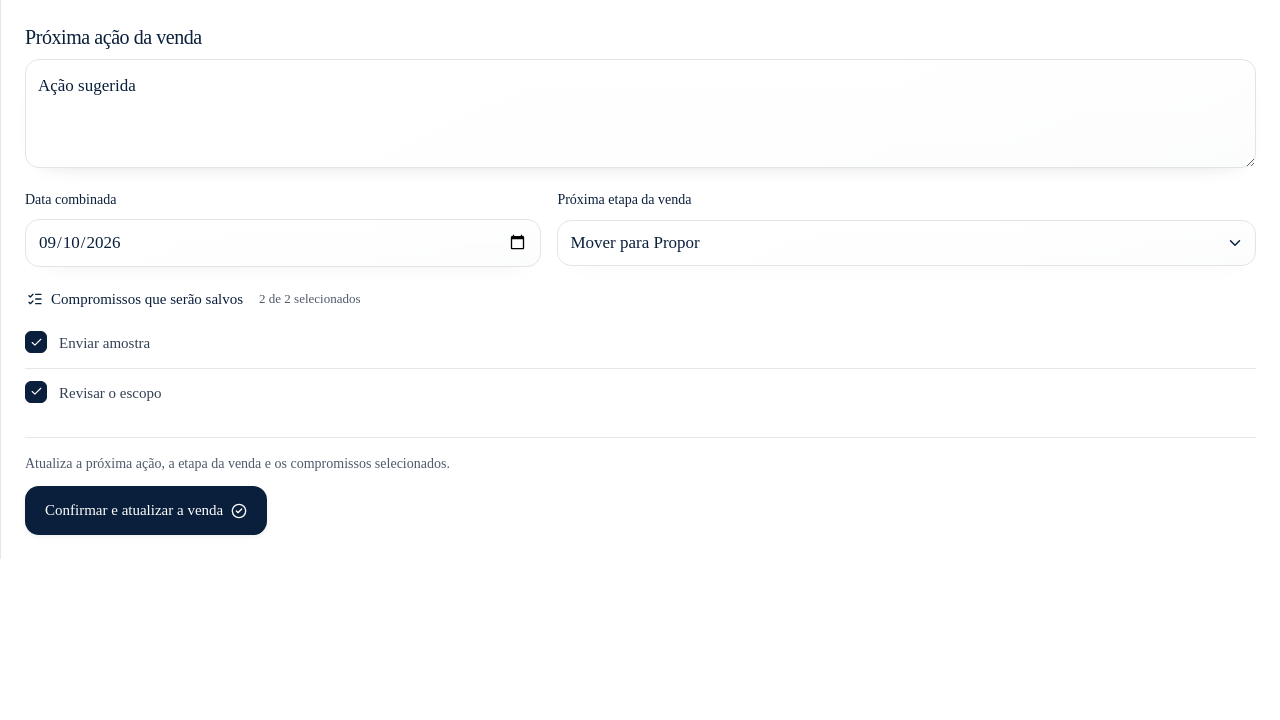
Test: FormularioPlanoCall › mantém texto, data, etapa e seleção após falha de servidor
Replace the text in the text box labelled "Próxima ação da venda" with "Apresentar escopo validado pela equipe" at (640, 113), box [25,59,1256,168]
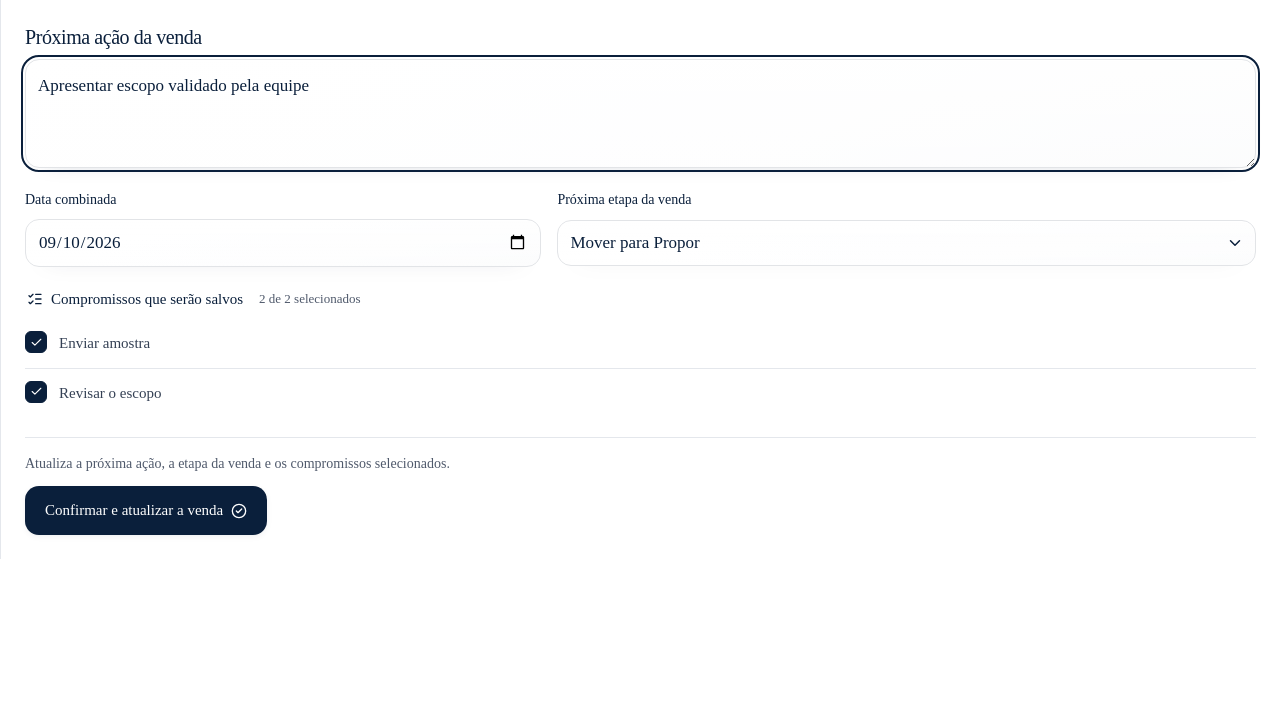
Select "Manter em Descoberta" in the dropdown labelled "Próxima etapa da venda" at (907, 243), box [557,220,1256,266]
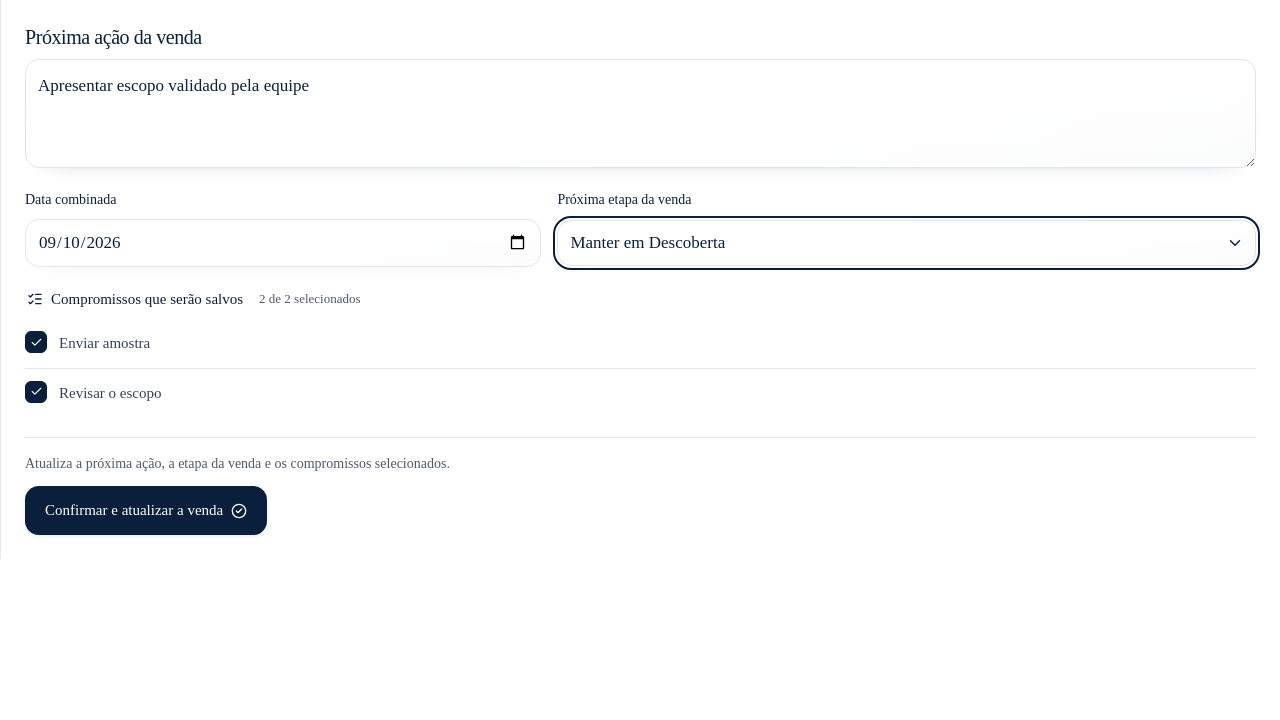
Click the checkbox labelled "Revisar o escopo".
click(110, 393)  # box [25,368,1256,417]
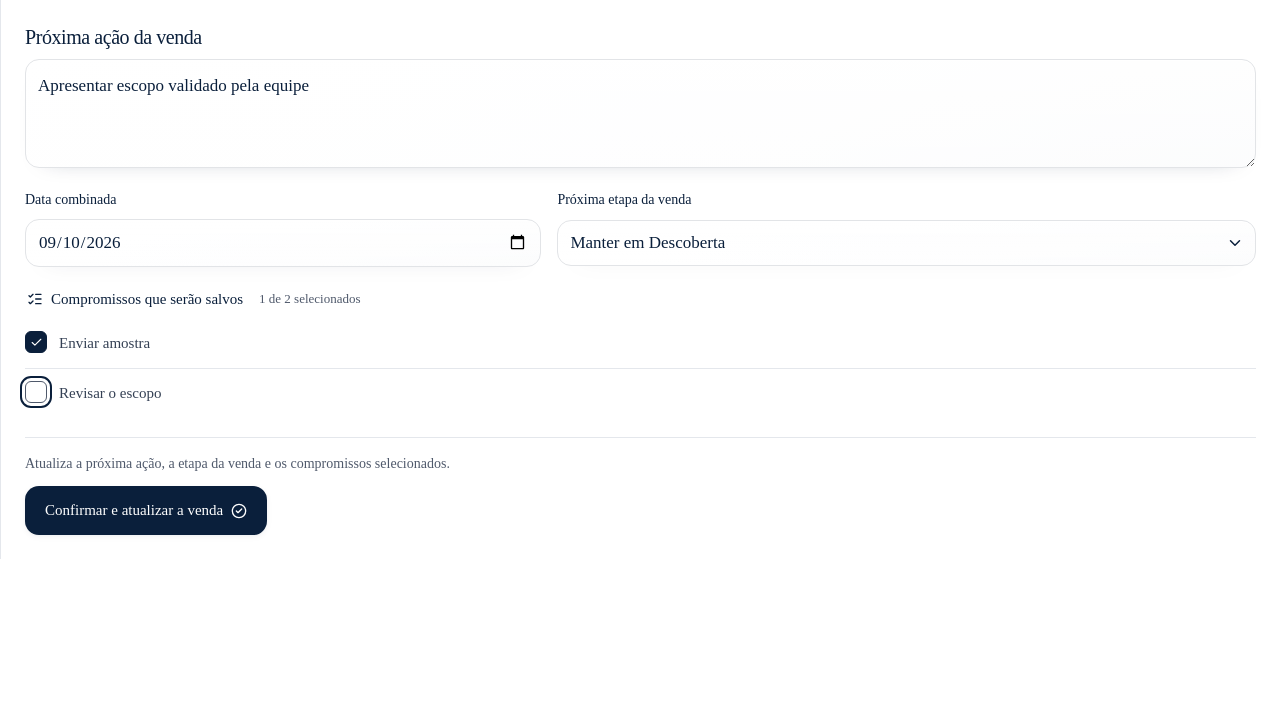
Result: the checkbox labelled "Revisar o escopo" is not checked at [25,368,1256,417]
Click the button "Confirmar e atualizar a venda".
click(146, 511)  # box [25,486,267,535]
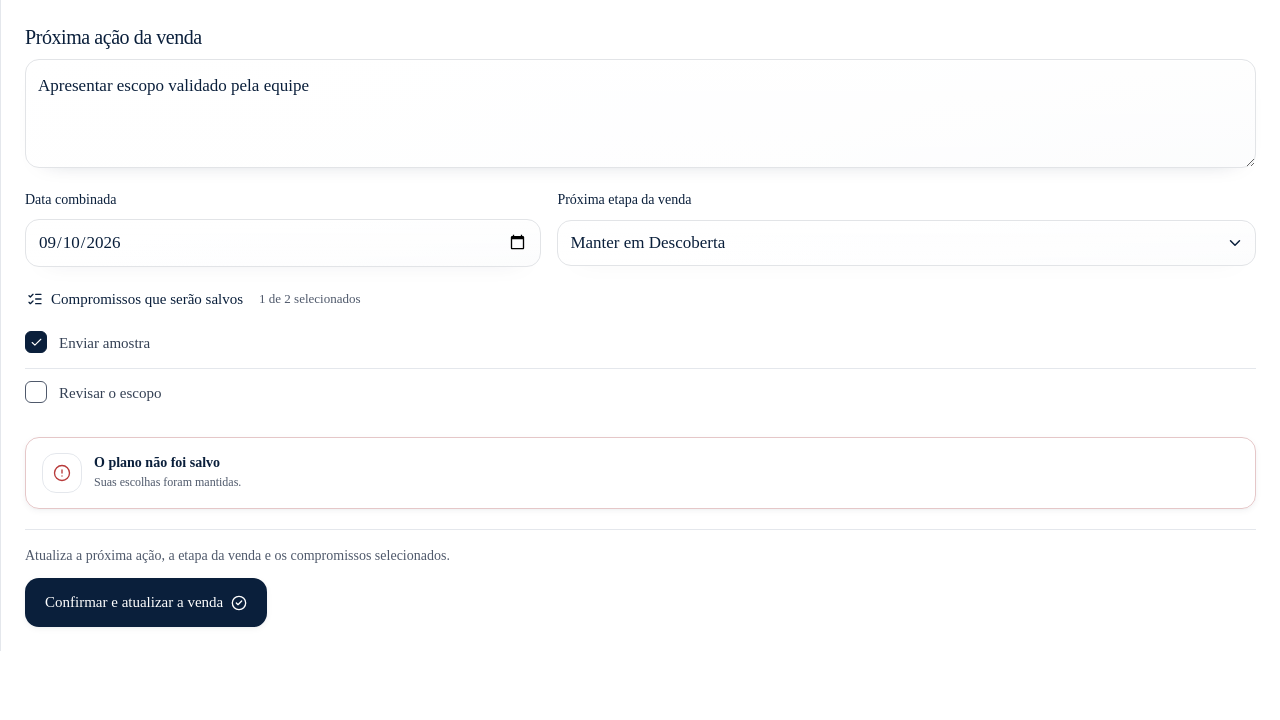
Expected: the date field labelled "Data combinada" holds "2026-09-10", [25,219,541,267]
Result: the checkbox labelled "Revisar o escopo" is not checked at [25,368,1256,417]
Result: the message shows "O plano não foi salvo" at [94,455,220,470]
Click the button "Confirmar e atualizar a venda".
click(146, 603)  # box [25,578,267,627]
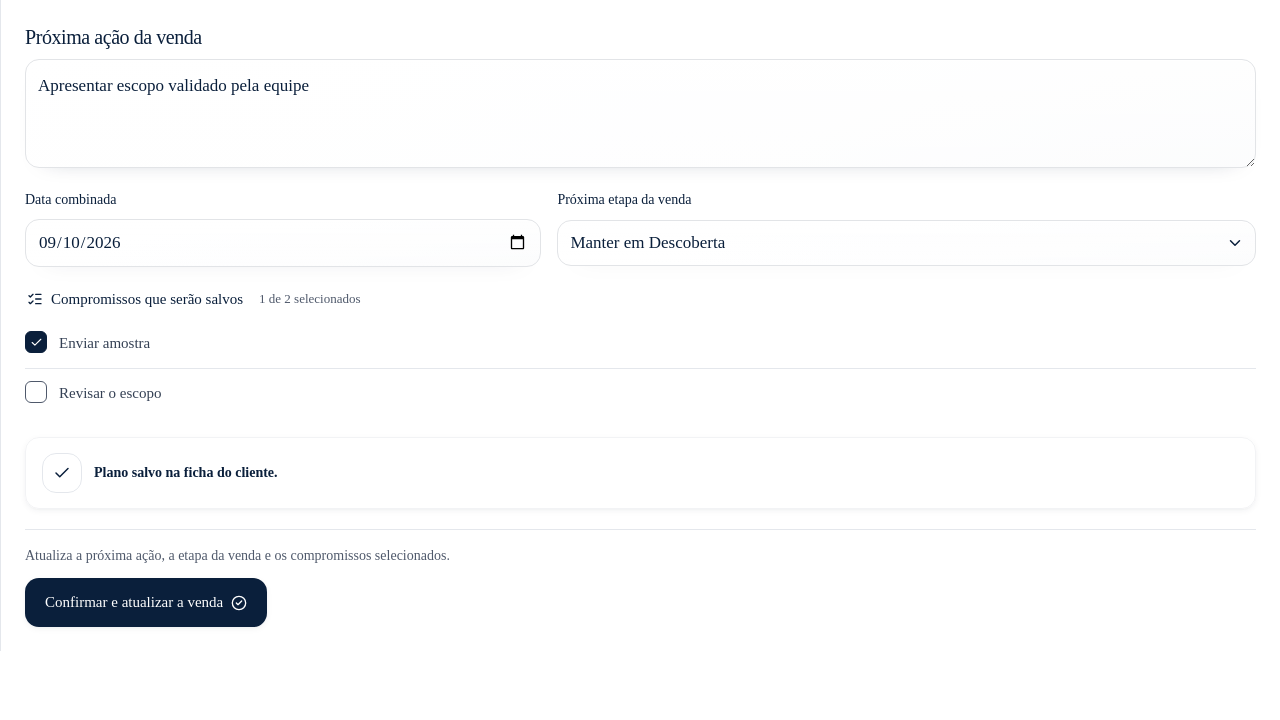
Result: the message shows "Plano salvo" at [94,465,278,480]
